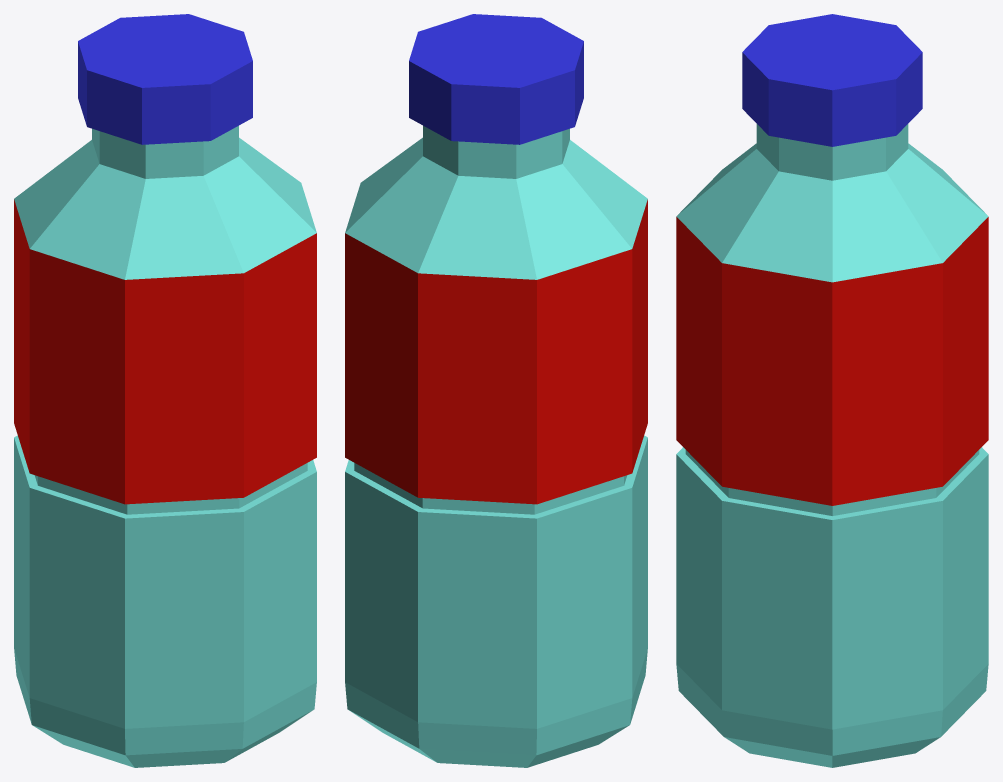
The model's file is Bottle.fbx.
3 views of the same model, side by side, from view 1: azimuth 30°, elevation 25°; view 2: azimuth 150°, elevation 25°; view 3: azimuth 270°, elevation 25° (orthographic).
Parts seen in each view (by area): view 1: Bottle; view 2: Bottle; view 3: Bottle.
Part boxes in pixels (box(x1,y1,x2,y2)): Bottle: box(14, 14, 316, 767); Bottle: box(345, 14, 647, 767); Bottle: box(676, 14, 988, 767).
Bounding box in the file's own units: 30.53 × 71.84 × 30.53.
